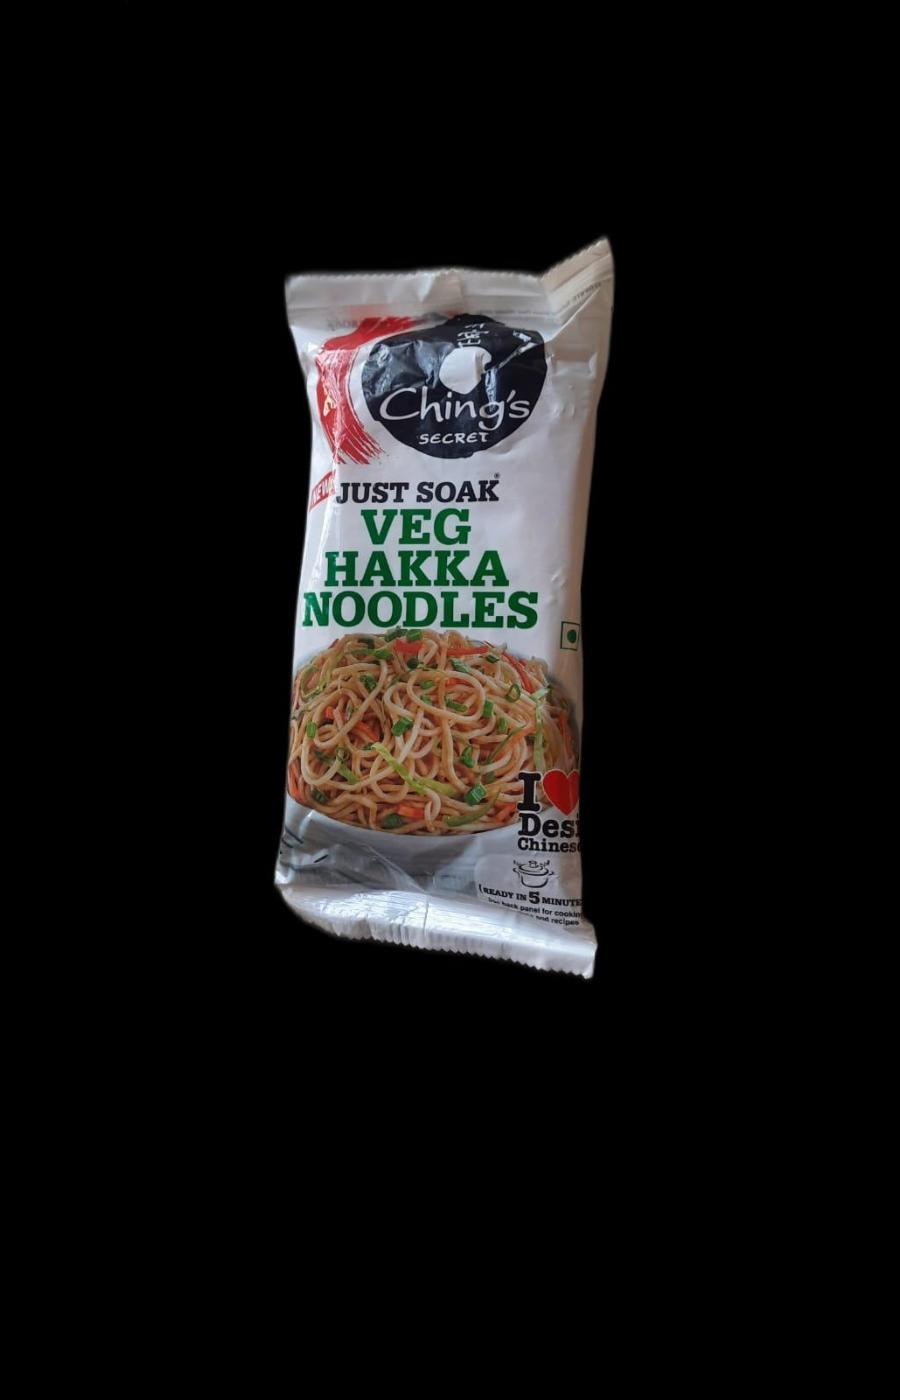Chings Secret Veg Hakka Noodles 140 g Pouch: (249, 231, 646, 976)
